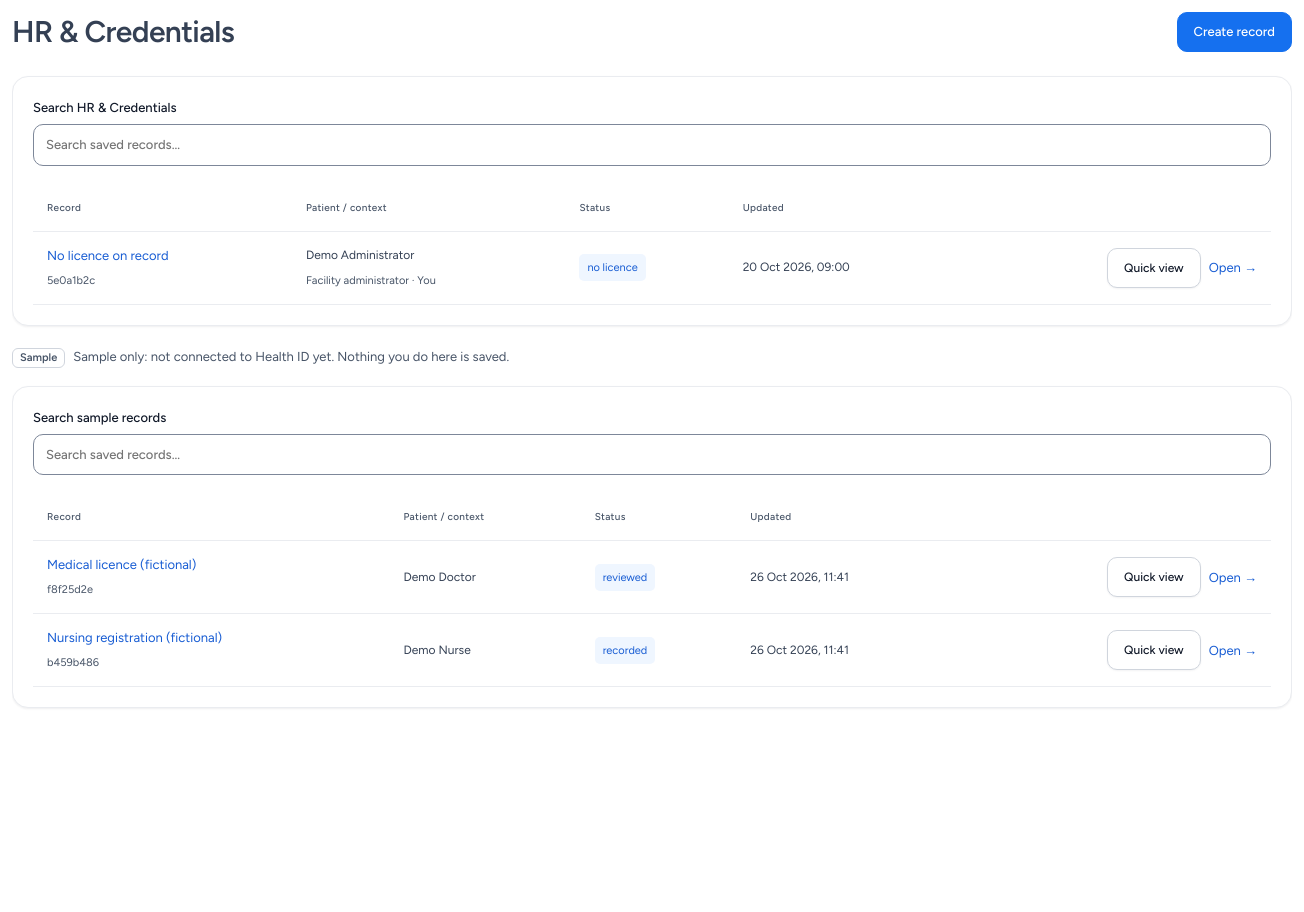
a reviewed record › is drawn as the design’s record view, with nothing further to do
Expected: the button "No licence on record" is shown, [47,244,168,266]
Click the button "Open →" in the row of "f8f25d2e" at (1233, 577), box [1209,566,1257,588]
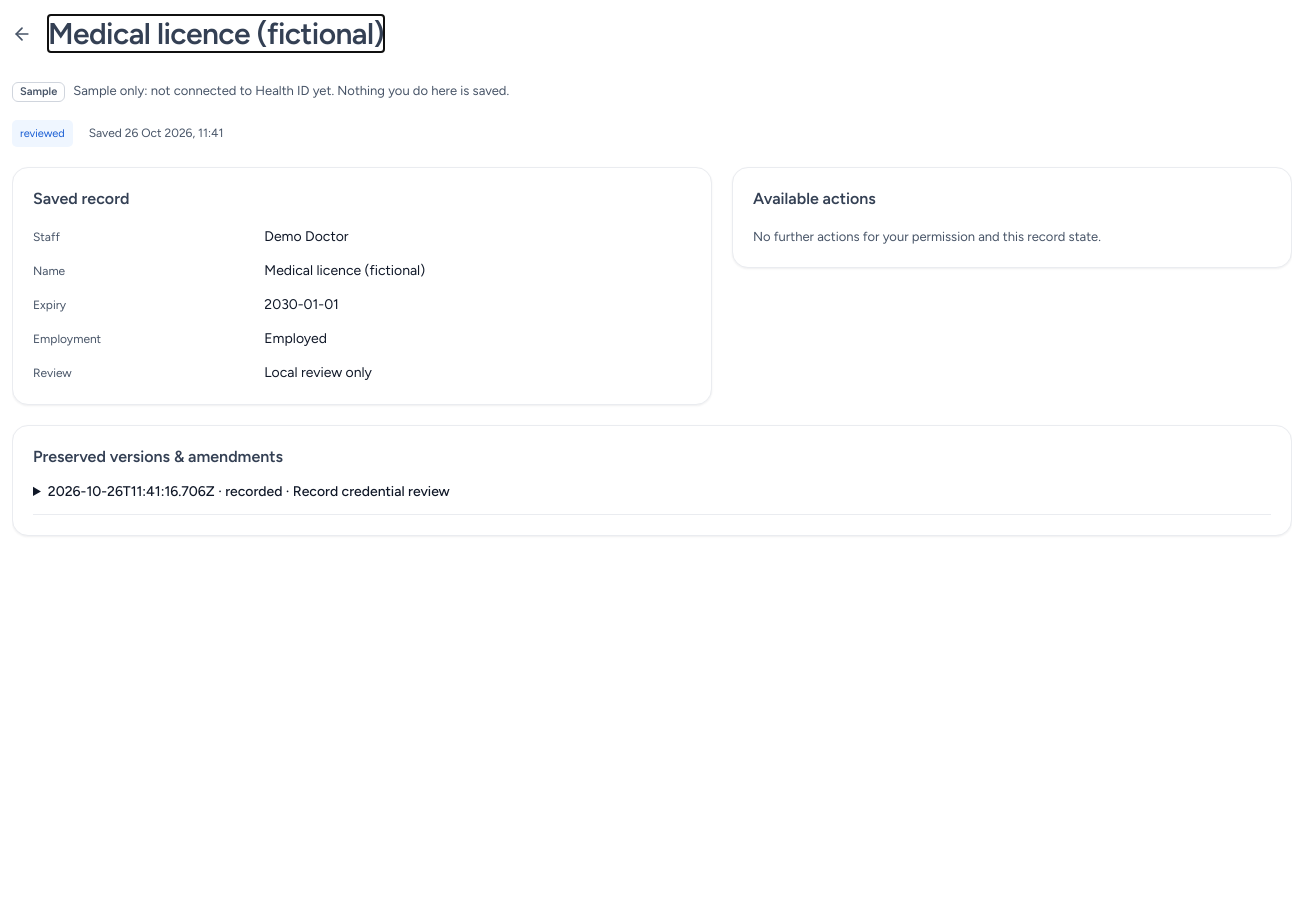
Result: the heading "Medical licence (fictional)" is shown at [48,16,384,52]
Result: the 1st text "Medical licence (fictional)" is shown at [48,15,384,52]
Result: the text "Employed" is shown at [264,330,327,347]
